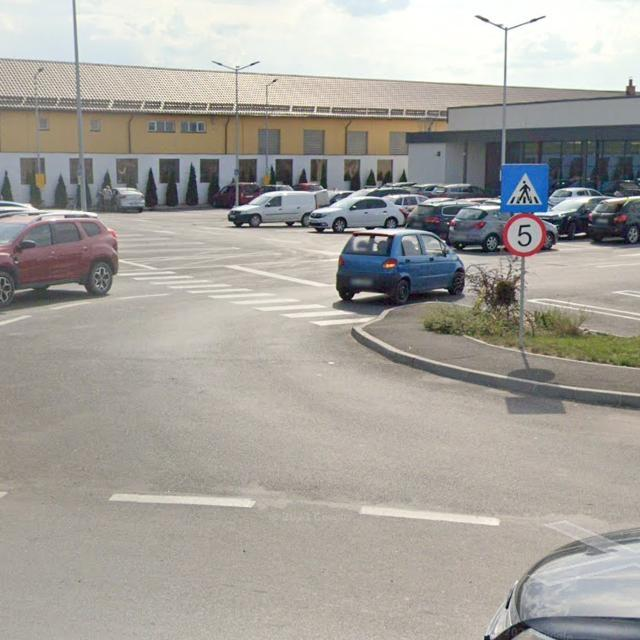info_crosswalk: (500, 164, 548, 212)
